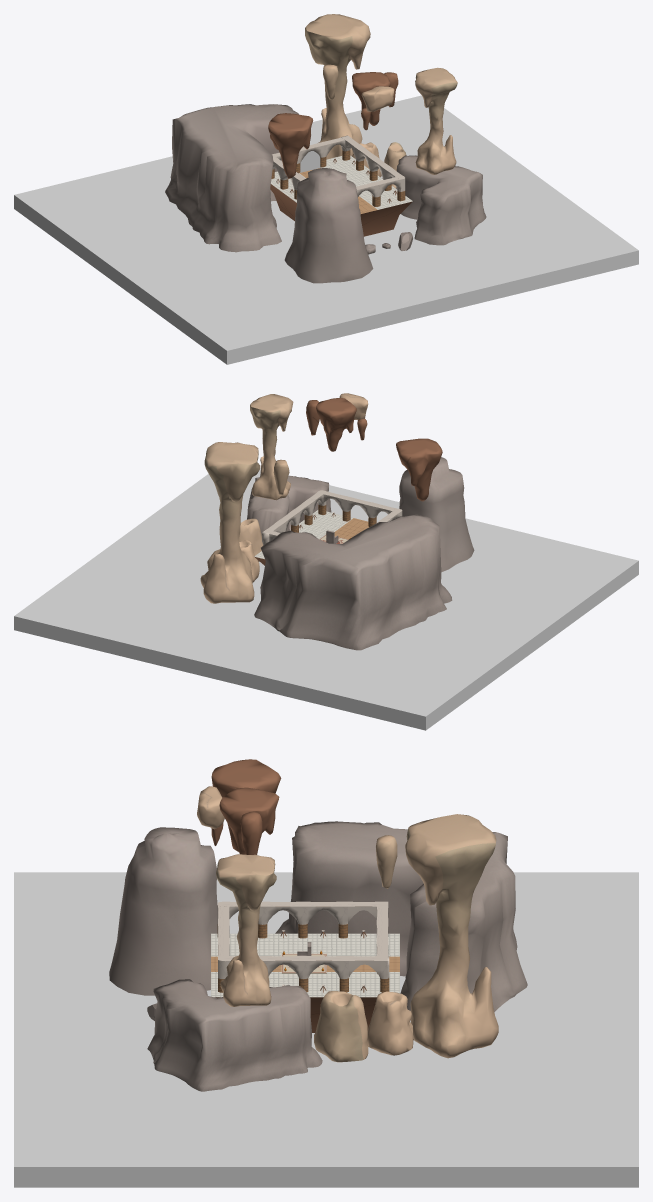
File: room1.fbx
3 views of the same model, one above another, from view 1: azimuth 30°, elevation 25°; view 2: azimuth 150°, elevation 25°; view 3: azimuth 270°, elevation 25° (orthographic). The views are drawn at different scales.
Parts seen in each view (by area): view 1: Box807, Plane.005, Plane.003, Plane.004, pilar1_1, Box779, pilar1, pilar2_1, Box795.001, pilar2, Box799.002, pilar7 (+1 smaller); view 2: Box807, Plane.005, pilar1_1, Plane.003, pilar1, Plane.004, pilar2_1, pilar2, Box779, Box795.001, Box799.001, pilar3; view 3: Box807, Plane.005, Plane.003, pilar1_1, Plane.004, Box779, pilar1, pilar3, Box795.001, Box795, pilar6, pilar2 (+6 smaller).
Part boxes in pixels (x1=…): Box807: x1=14, y1=95, x2=638, y2=364; Plane.005: x1=165, y1=104, x2=298, y2=252; Plane.003: x1=284, y1=168, x2=373, y2=283; Plane.004: x1=396, y1=155, x2=486, y2=245; pilar1_1: x1=305, y1=14, x2=370, y2=159; Box779: x1=270, y1=155, x2=412, y2=236; pilar1: x1=415, y1=67, x2=457, y2=174; pilar2_1: x1=268, y1=113, x2=313, y2=178; Box795.001: x1=341, y1=135, x2=405, y2=201; pilar2: x1=352, y1=72, x2=390, y2=125; Box799.002: x1=273, y1=137, x2=347, y2=173; pilar7: x1=361, y1=86, x2=394, y2=111; Box807: x1=14, y1=468, x2=638, y2=730; Plane.005: x1=254, y1=514, x2=452, y2=650; pilar1_1: x1=200, y1=442, x2=260, y2=603; Plane.003: x1=399, y1=457, x2=474, y2=572; pilar1: x1=250, y1=394, x2=293, y2=500; Plane.004: x1=247, y1=476, x2=331, y2=535; pilar2_1: x1=396, y1=438, x2=442, y2=501; pilar2: x1=316, y1=398, x2=356, y2=451; Box779: x1=254, y1=510, x2=368, y2=565; Box795.001: x1=262, y1=490, x2=326, y2=545; Box799.001: x1=321, y1=491, x2=396, y2=526; pilar3: x1=239, y1=518, x2=263, y2=561; Box807: x1=14, y1=872, x2=638, y2=1187; Plane.005: x1=275, y1=821, x2=527, y2=1012; Plane.003: x1=109, y1=827, x2=217, y2=995; pilar1_1: x1=405, y1=814, x2=498, y2=1058; Plane.004: x1=147, y1=979, x2=322, y2=1091; Box779: x1=211, y1=933, x2=399, y2=1032; pilar1: x1=216, y1=854, x2=276, y2=1006; pilar3: x1=314, y1=991, x2=368, y2=1062; Box795.001: x1=218, y1=956, x2=389, y2=992; Box795: x1=217, y1=901, x2=388, y2=938; pilar6: x1=367, y1=991, x2=413, y2=1055; pilar2: x1=219, y1=787, x2=279, y2=854.
Bounding box in the file's own units: 3363 × 1357 × 3015.
Materials: 33 (31 with a texture image).
